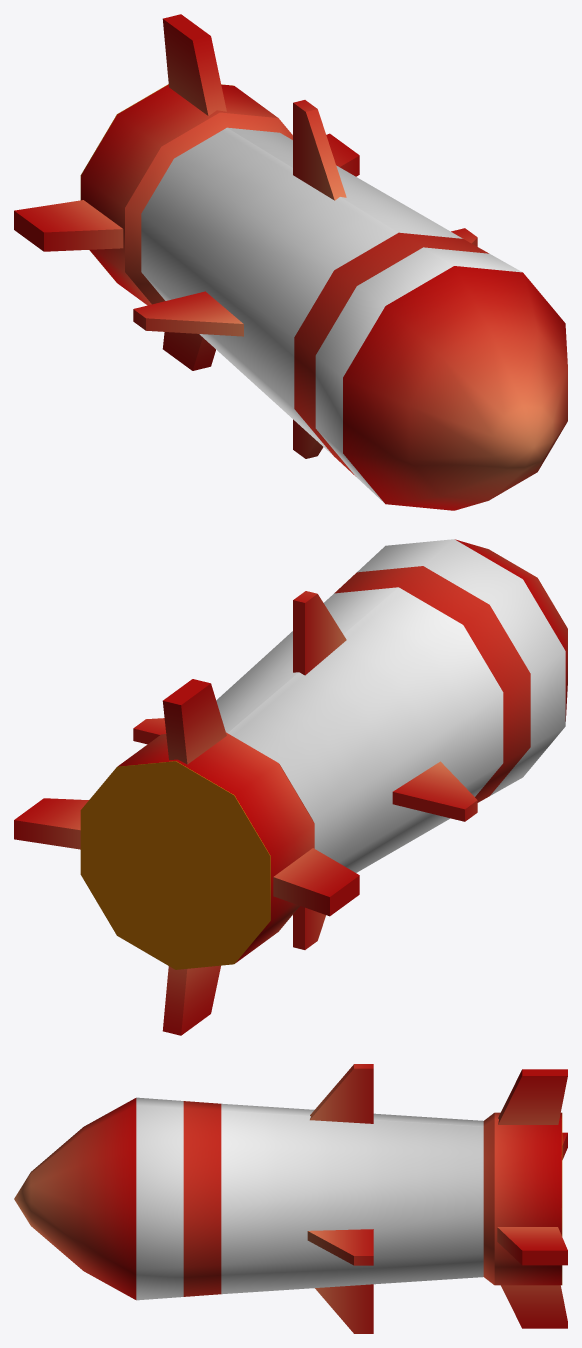
Rendered from Rocket.fbx.
The picture shows the model from 3 angles, top to bottom: view 1: azimuth 30°, elevation 25°; view 2: azimuth 150°, elevation 25°; view 3: azimuth 270°, elevation 25°; orthographic projection. The views are drawn at different scales.
Visible parts, largest first — view 1: RocketMesh; view 2: RocketMesh; view 3: RocketMesh.
Part boxes in pixels (x1,y1,x2,y2): RocketMesh: (14, 14, 567, 510); RocketMesh: (14, 539, 567, 1035); RocketMesh: (14, 1064, 567, 1333).
Bounding box in the file's own units: 72.69 × 72.69 × 137.
